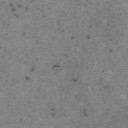oxide scale of temperature system: (24, 64, 60, 92), (8, 3, 44, 12), (70, 34, 90, 40), (50, 108, 56, 118), (82, 108, 88, 116), (103, 83, 110, 89), (19, 119, 26, 125), (112, 119, 118, 124), (22, 32, 26, 38), (2, 65, 5, 73), (72, 78, 78, 82), (57, 20, 60, 26)
